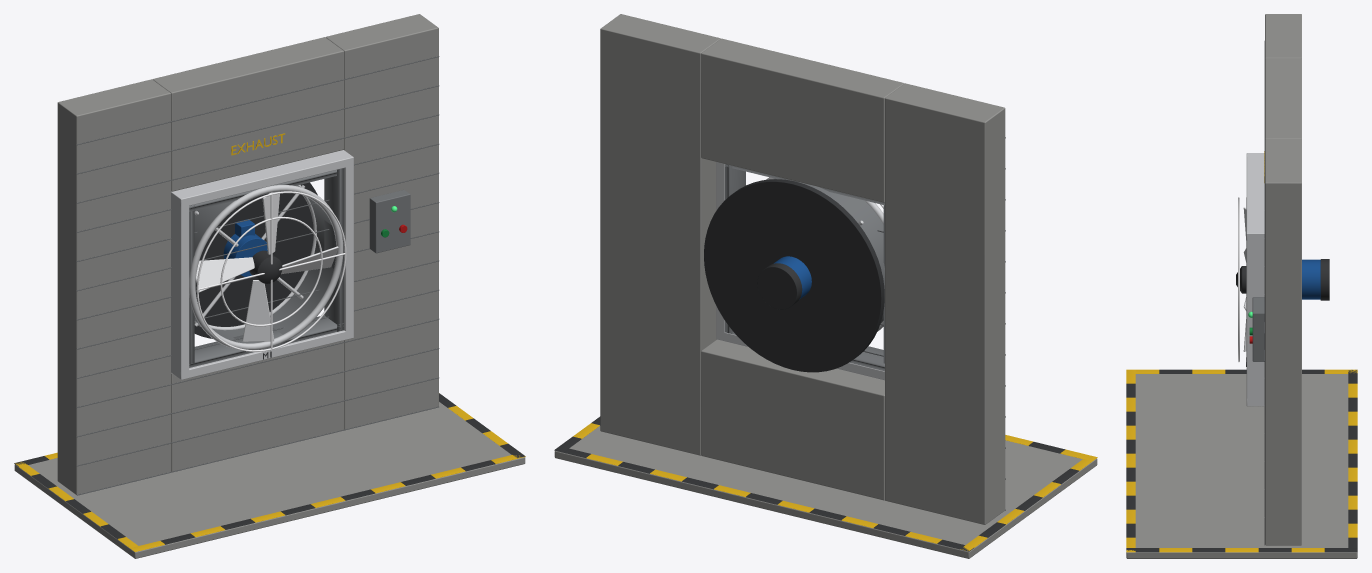
Rendered from machine_fan.glb.
3 views of the same model, side by side, from view 1: azimuth 30°, elevation 25°; view 2: azimuth 150°, elevation 25°; view 3: azimuth 270°, elevation 25° (orthographic). The views are drawn at different scales.
Parts seen in each view (by area): view 1: frame, blades_mesh; view 2: frame; view 3: frame, blades_mesh.
Part boxes in pixels (x1,y1,x2,y2): frame: [14, 14, 525, 558]; blades_mesh: [195, 191, 338, 341]; frame: [554, 14, 1097, 558]; frame: [1126, 14, 1357, 558]; blades_mesh: [1236, 207, 1246, 351].
Bounding box in the file's own units: 2.8 × 2.65 × 1.5.
